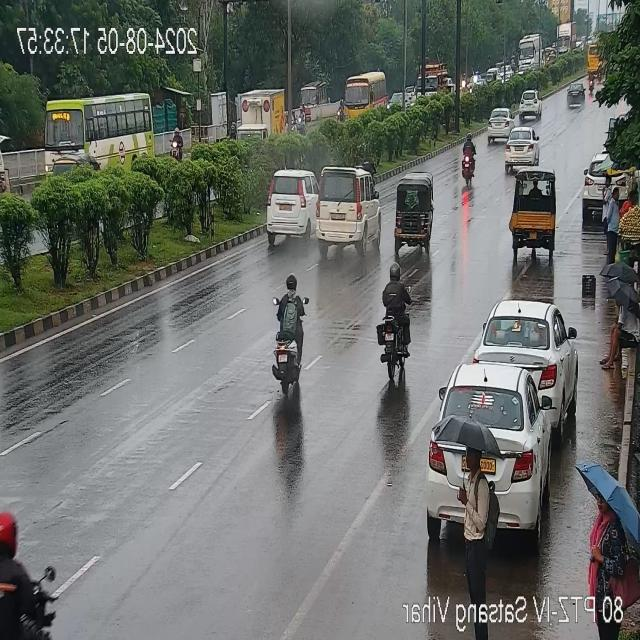2-wheelers: (0, 497, 64, 640), (267, 277, 313, 398), (380, 268, 420, 386), (454, 136, 478, 186), (171, 127, 182, 157)
auto: (505, 170, 559, 253), (393, 177, 435, 250)
bus: (36, 96, 150, 186), (336, 72, 386, 124), (520, 34, 540, 74)
car: (428, 366, 558, 506), (480, 300, 578, 412), (314, 167, 378, 259), (262, 172, 314, 247), (506, 129, 538, 165), (484, 109, 516, 144), (519, 88, 541, 120), (565, 83, 585, 108)
pedestrian: (582, 488, 626, 640), (463, 444, 492, 598), (602, 303, 640, 377), (607, 182, 623, 264), (601, 172, 613, 224), (622, 191, 638, 211)
truck: (232, 84, 286, 145)
